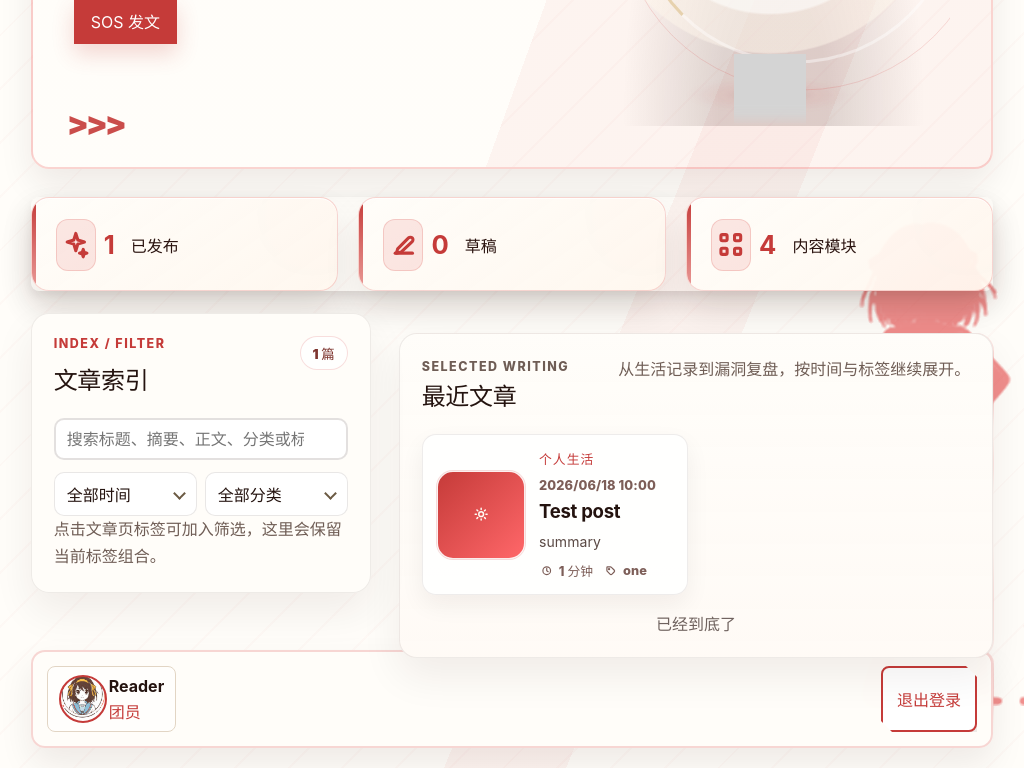
Test case: App layout shells › reports a failed Home logout without leaking the rejected request
(page scrolled)
Click the button "退出登录". click: (929, 699)
box: [881,666,977,732]
(page scrolled)
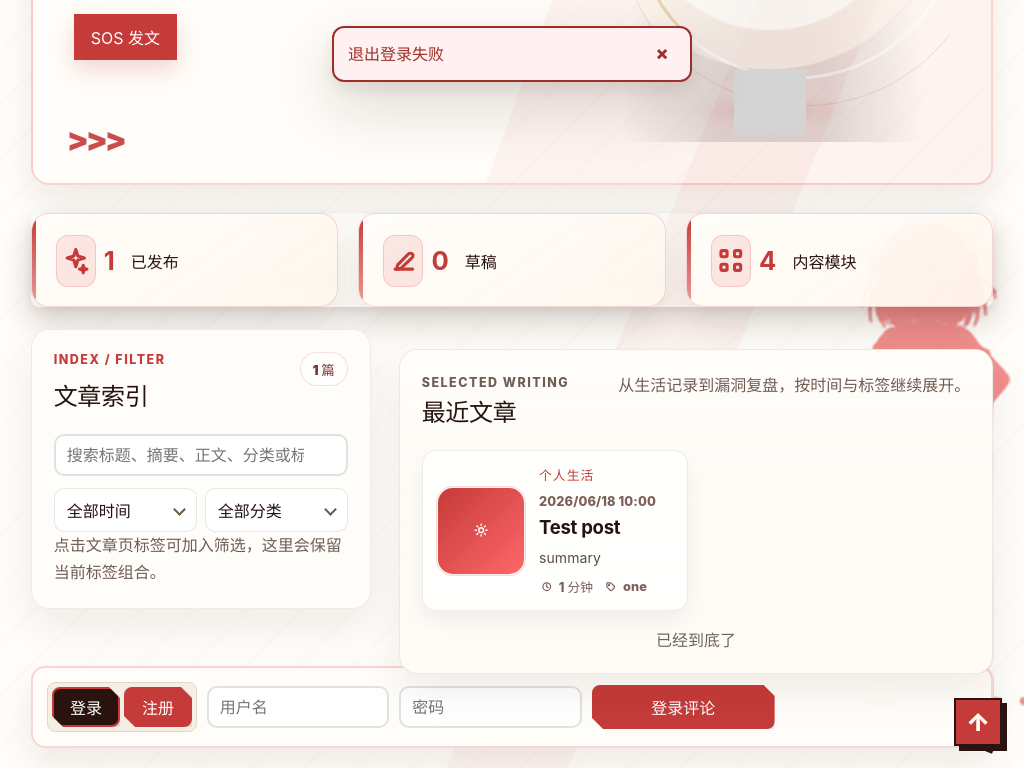
Result: the message "退出登录失败 ×" is shown at [332,26,692,82]
